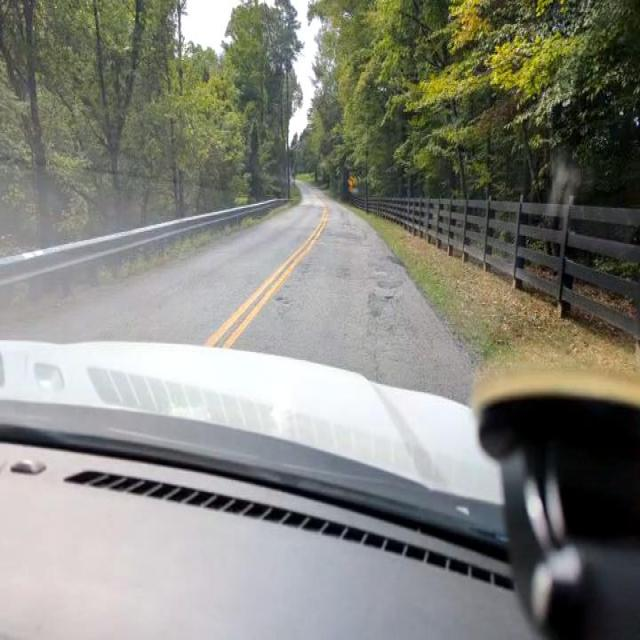pothole: (272, 289, 292, 307)
